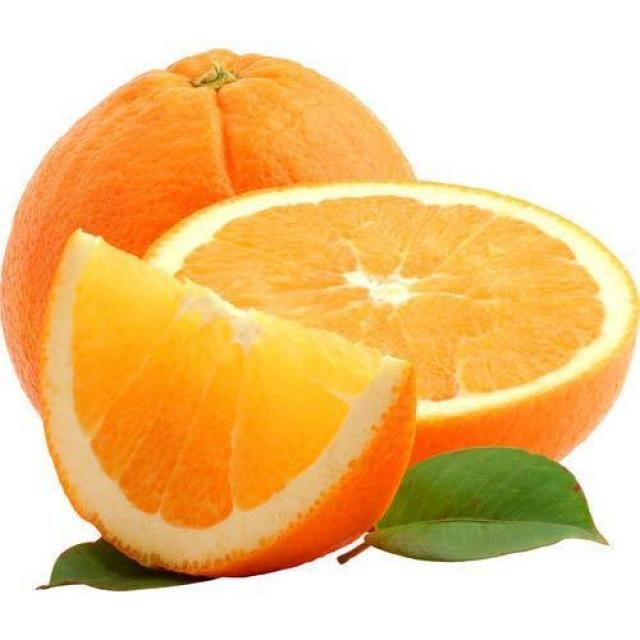orange: (12, 43, 413, 475), (138, 178, 640, 492), (40, 224, 419, 583)
